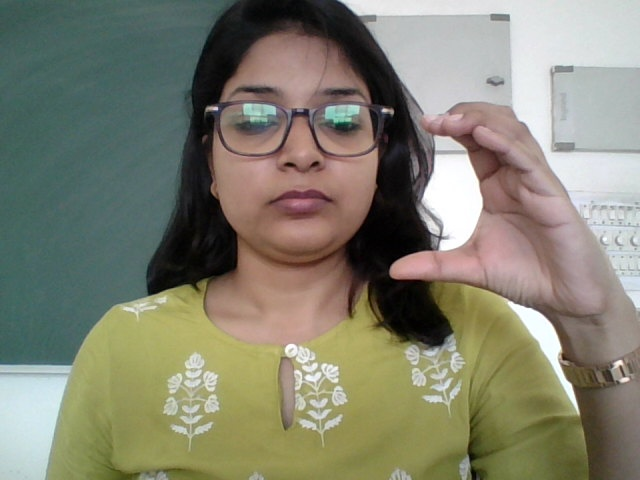C: (383, 95, 615, 317)
